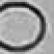no answer: (0, 2, 46, 52)
